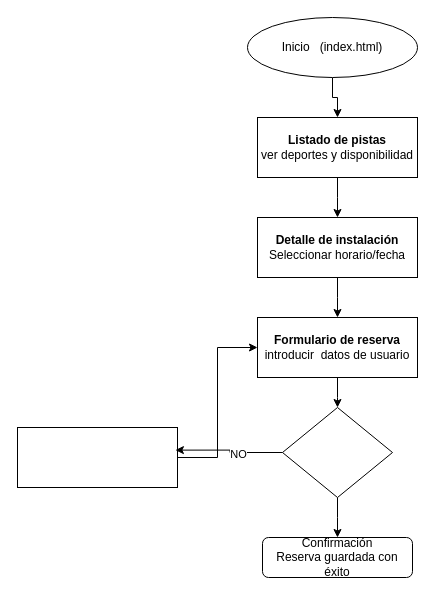
This 435x596 diagram has some shape labels left out. The shapes that lost their labels are listed below. From the top down, each one's box as (x1, y1, x2, y2) in pixels, then its label:
(16, 426, 178, 488): Mensaje de Error Corregir datos introducidos
(282, 406, 392, 498): ¿Datos válidos?comprobar plazas
